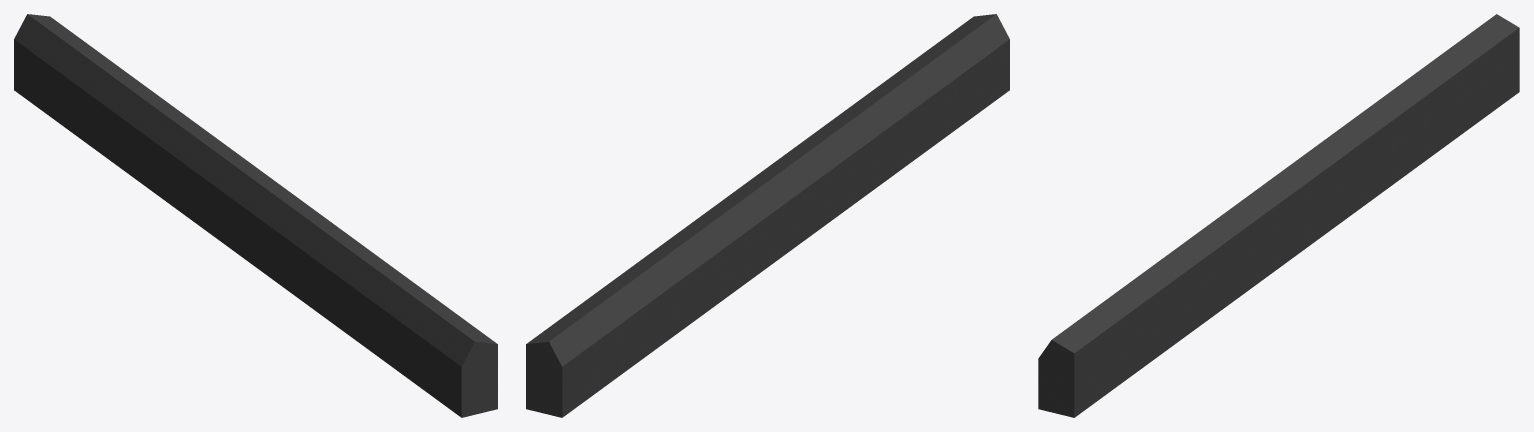
Rendered from Balcony_Cover.fbx.
3 views of the same model, side by side, from view 1: azimuth 30°, elevation 25°; view 2: azimuth 150°, elevation 25°; view 3: azimuth 330°, elevation 25° (orthographic).
Visible parts, largest first — view 1: Room_Balcony_Cover; view 2: Room_Balcony_Cover; view 3: Room_Balcony_Cover.
Part boxes in pixels (left/top/right/bottom): Room_Balcony_Cover: left=14, top=14, right=497, bottom=417; Room_Balcony_Cover: left=526, top=14, right=1009, bottom=417; Room_Balcony_Cover: left=1038, top=14, right=1519, bottom=417.
Size of the model in its own units: 18.66 by 36 by 400.
1 material, 1 textured.
